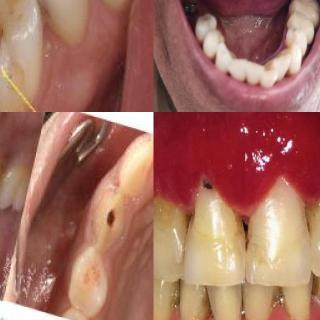Gum Swelling: (154, 147, 320, 218)
calculus: (169, 205, 201, 243), (268, 283, 293, 320), (165, 280, 183, 318), (304, 272, 320, 314), (192, 292, 215, 320)
cavities: (189, 166, 223, 204), (107, 211, 115, 227)
maligned: (258, 66, 282, 92)
plaque: (220, 207, 256, 257), (292, 201, 320, 237)
